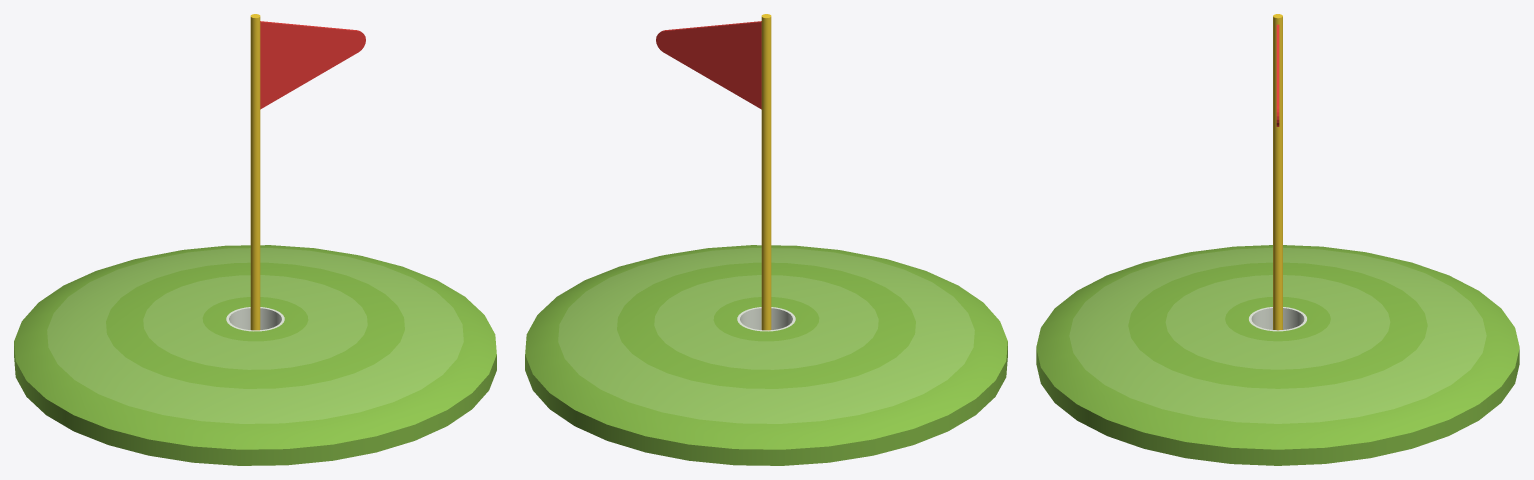
File: flag_in_hole.gltf
3 renders of one model, left to right at view 1: azimuth 30°, elevation 25°; view 2: azimuth 150°, elevation 25°; view 3: azimuth 270°, elevation 25°, orthographic.
Parts seen in each view (by area): view 1: Cylinder.477; view 2: Cylinder.477; view 3: Cylinder.477.
Boxes of the visible parts, box(x1,y1,x2,y2) form: Cylinder.477: box(14, 14, 496, 465); Cylinder.477: box(525, 14, 1007, 465); Cylinder.477: box(1036, 14, 1519, 465).
Bounding box in the file's own units: 2.4 × 1.9 × 2.4.
Materials: 1 (1 with a texture image).
